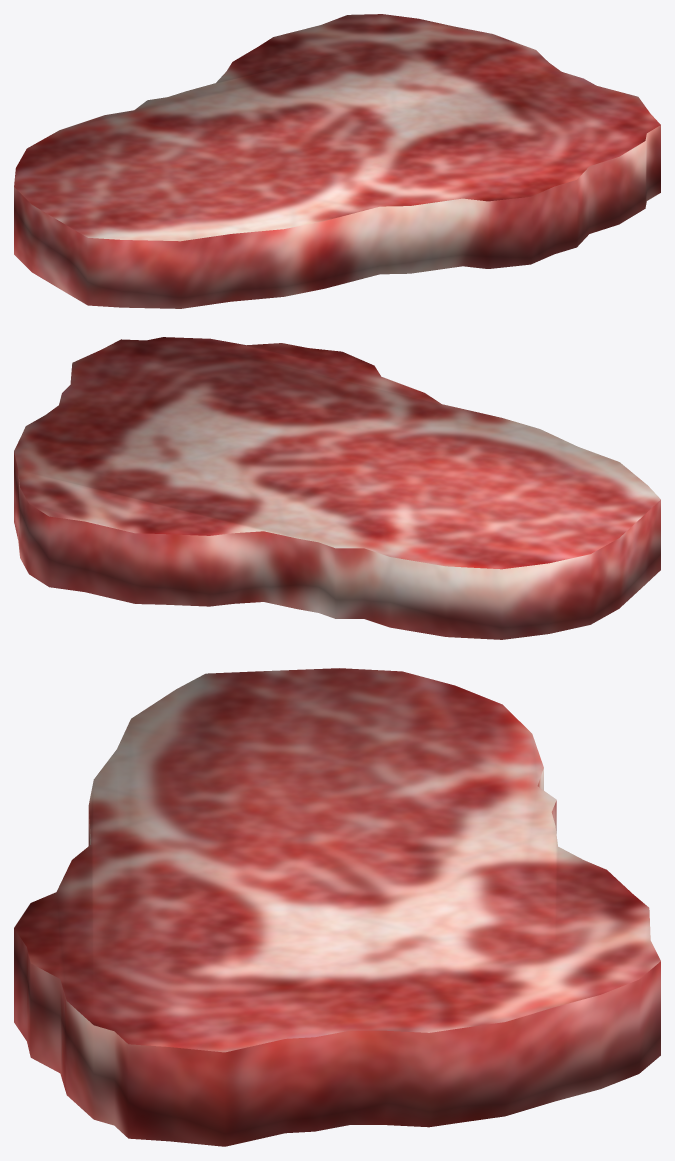
File: meat_1.glb
3 renders of one model, top to bottom at view 1: azimuth 30°, elevation 25°; view 2: azimuth 150°, elevation 25°; view 3: azimuth 270°, elevation 25°, orthographic. The views are drawn at different scales.
Visible parts, largest first — view 1: Meat_Material.001_0; view 2: Meat_Material.001_0; view 3: Meat_Material.001_0.
Boxes of the visible parts, left/top/right/bottom form: Meat_Material.001_0: left=14, top=14, right=660, bottom=308; Meat_Material.001_0: left=14, top=337, right=660, bottom=639; Meat_Material.001_0: left=14, top=668, right=660, bottom=1146.
Size of the model in its own units: 0.5947 by 0.0681 by 0.4231.
1 material, 1 textured.
